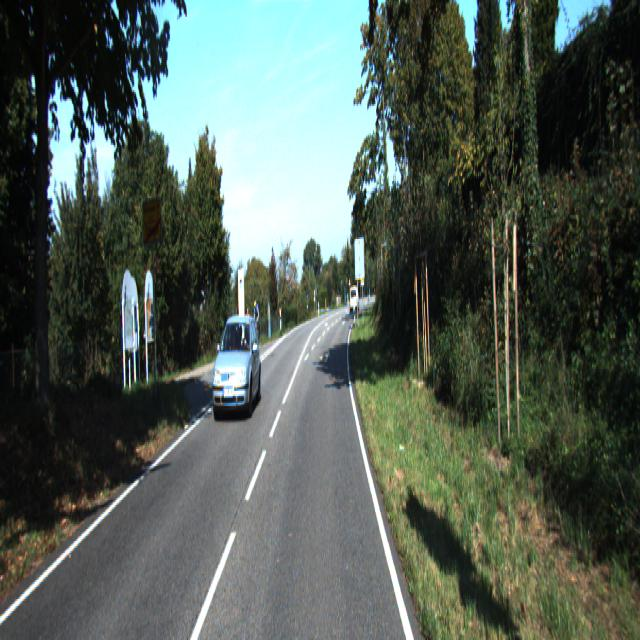Car: (210, 312, 262, 420)
